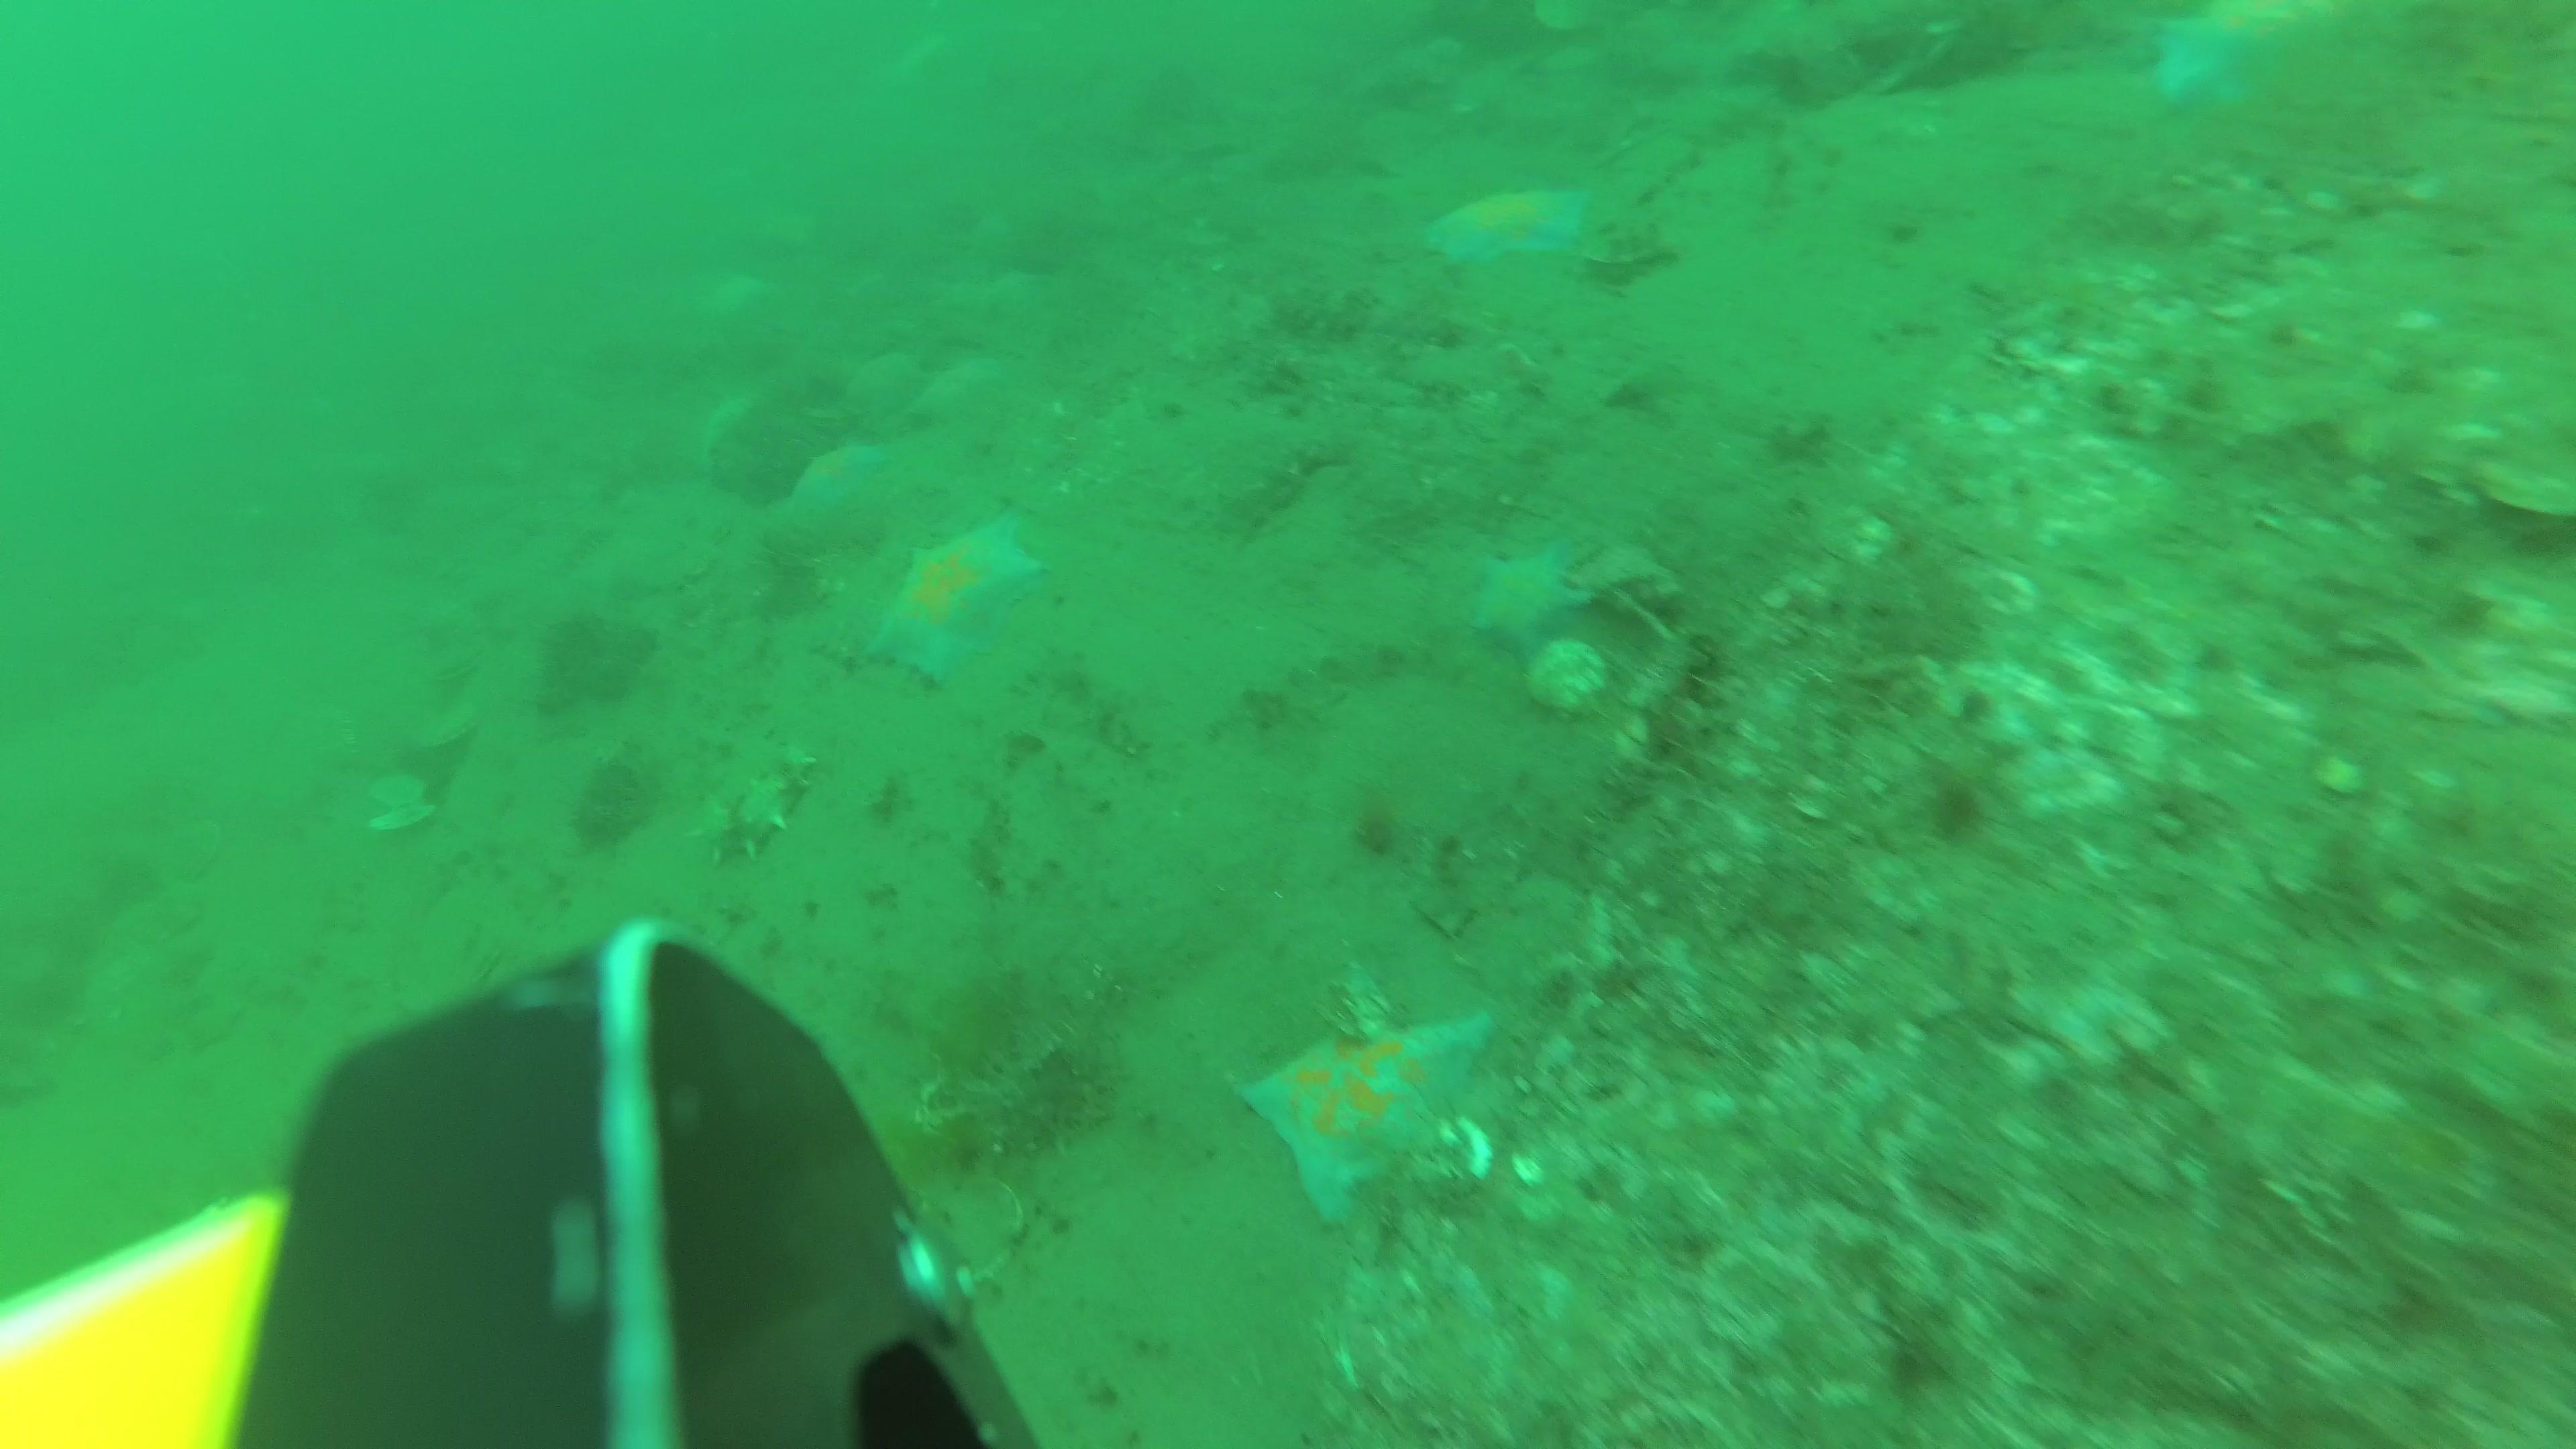holothurian: (694, 747, 816, 869)
scallop: (1525, 635, 1614, 708), (372, 777, 435, 835), (419, 709, 481, 754), (428, 646, 478, 694)
starfish: (1244, 970, 1495, 1224), (876, 502, 1039, 692), (2150, 0, 2348, 115), (1426, 186, 1587, 271), (1479, 552, 1591, 667), (789, 446, 888, 527), (916, 352, 996, 430), (847, 352, 913, 414)
